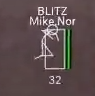hacks_1: (29, 4, 78, 85)
